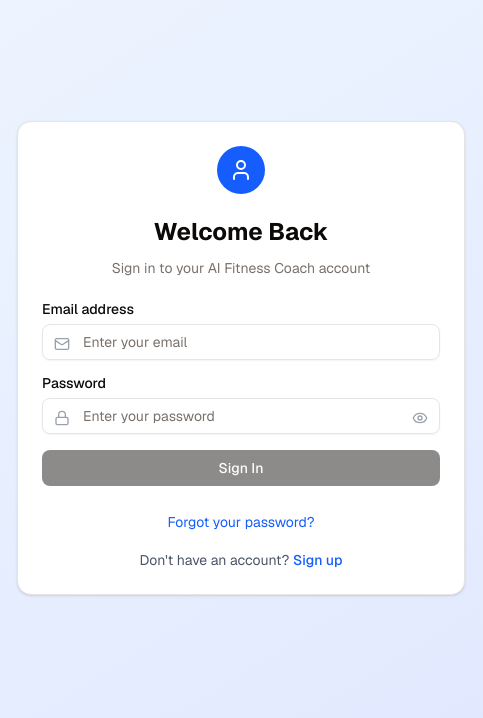
Test case: LoginPage › Form Validation › validates password strength in signup mode
Note: Switch to signup mode
Click the button "Sign up" at {"x": 318, "y": 560}, box [293, 550, 342, 570]
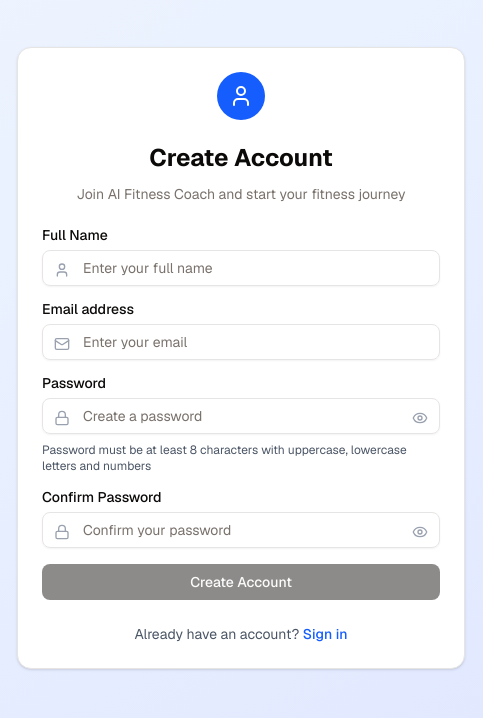
Note: Fill in form with weak password
Type "John Doe" into the field labelled "Full Name" at {"x": 241, "y": 268}, box [42, 250, 440, 286]
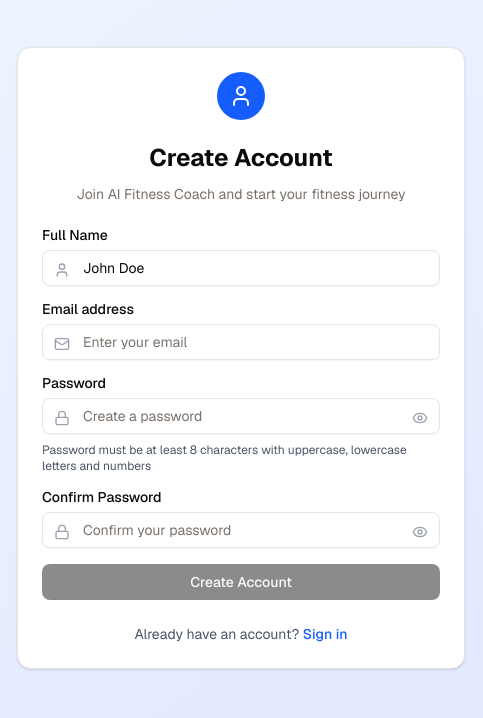
Type "test@example.com" into the field labelled "Email address" at {"x": 241, "y": 342}, box [42, 324, 440, 360]
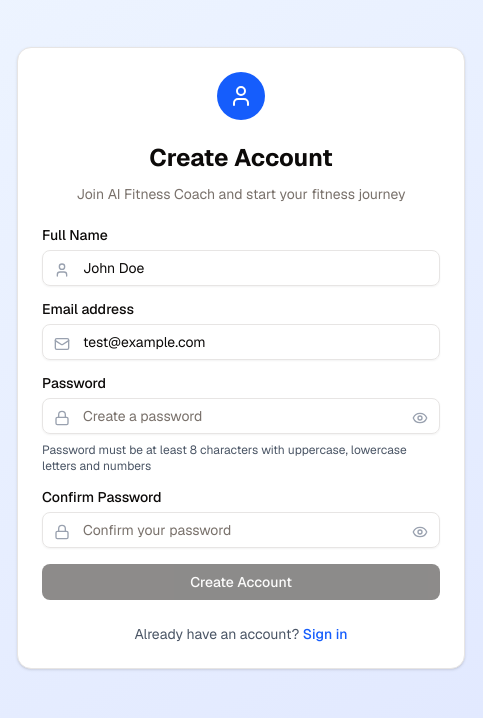
Type "weak" into the password field labelled "Password" at {"x": 241, "y": 416}, box [42, 398, 440, 434]
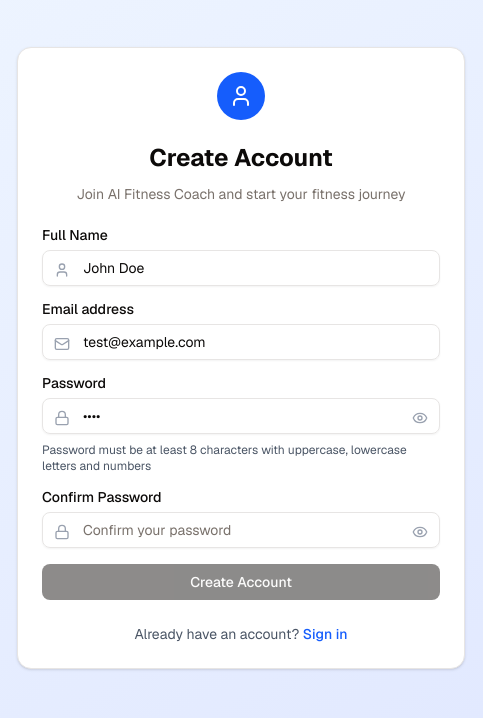
Type "weak" into the password field labelled "Confirm Password" at {"x": 241, "y": 530}, box [42, 512, 440, 548]
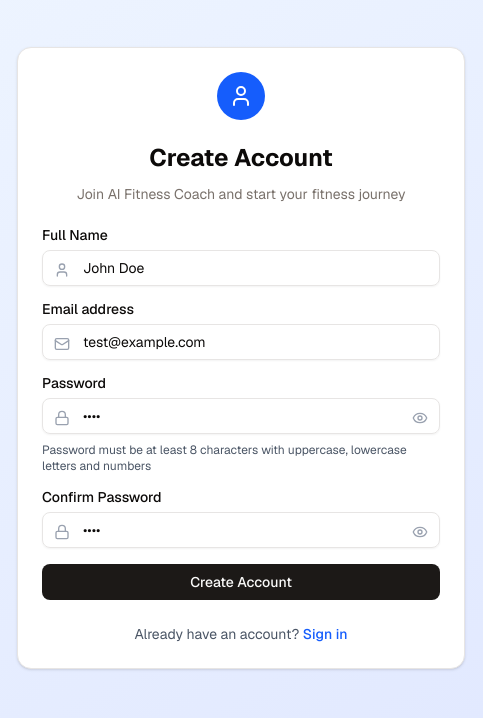
Click the button "Create Account" at {"x": 241, "y": 582}, box [42, 564, 440, 600]
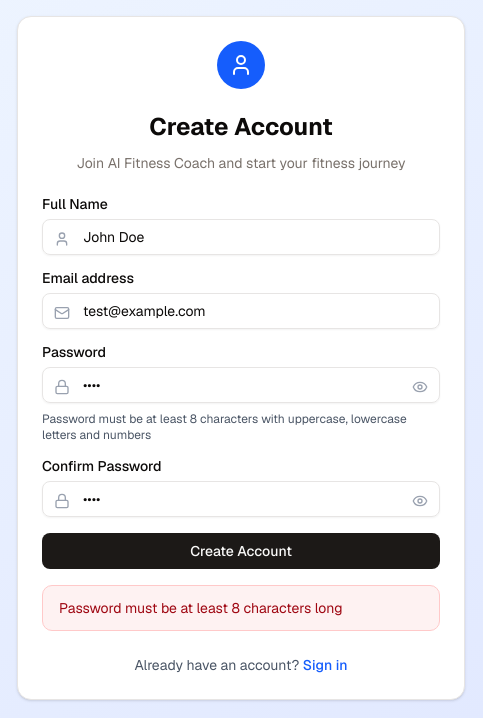
Now the text "Password must be at least 8 characters long" is shown, box [59, 599, 342, 617]
